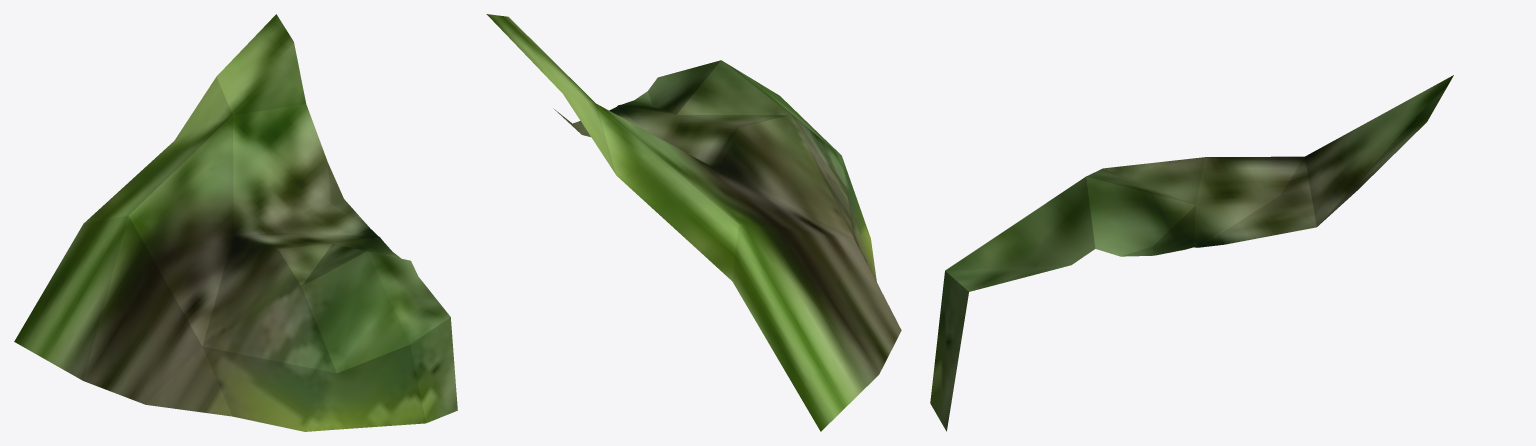
3 views of the same model, side by side, from view 1: azimuth 30°, elevation 25°; view 2: azimuth 150°, elevation 25°; view 3: azimuth 270°, elevation 25° (orthographic). The views are drawn at different scales.
Size of the model in its own units: 0.3417 by 0.3283 by 0.4211.
1 material, 1 textured.
